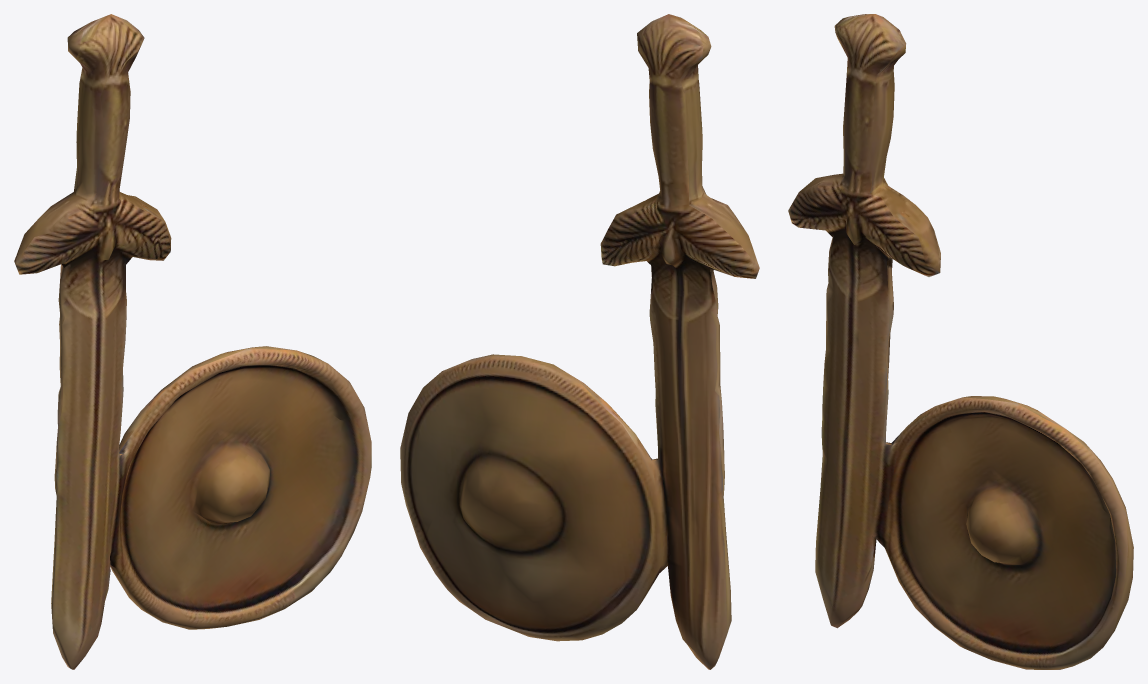
File: prop_bronze_sword_shield.glb
The picture shows the model from 3 angles, left to right: view 1: azimuth 30°, elevation 25°; view 2: azimuth 150°, elevation 25°; view 3: azimuth 330°, elevation 25°; orthographic projection. The views are drawn at different scales.
Visible parts, largest first — view 1: geometry_0; view 2: geometry_0; view 3: geometry_0.
Part boxes in pixels (<box>): geometry_0: <box>14,14,371,669</box>; geometry_0: <box>400,14,759,669</box>; geometry_0: <box>788,14,1133,669</box>.
Bounding box in the file's own units: 0.9428 × 1.64 × 0.2068.
Materials: 1 (1 with a texture image).
